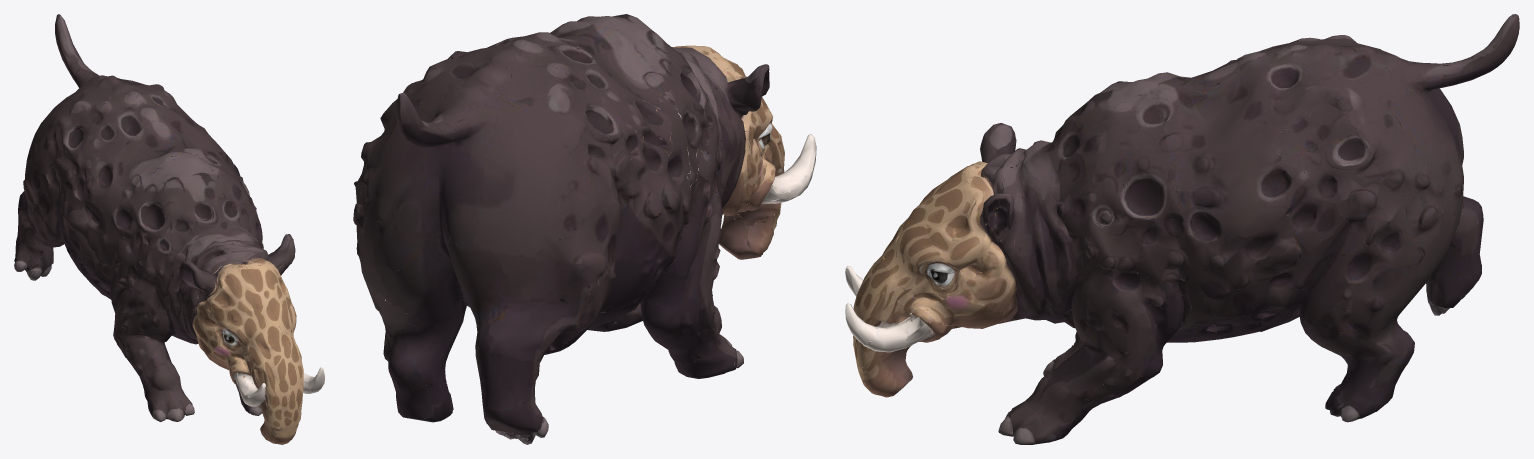
3 views of the same model, side by side, from view 1: azimuth 30°, elevation 25°; view 2: azimuth 150°, elevation 25°; view 3: azimuth 270°, elevation 25° (orthographic). The views are drawn at different scales.
Visible parts, largest first — view 1: Mesh_0; view 2: Mesh_0; view 3: Mesh_0.
Part boxes in pixels (<box>): Mesh_0: <box>14,14,324,444</box>; Mesh_0: <box>353,14,816,444</box>; Mesh_0: <box>845,14,1519,444</box>.
Bounding box in the file's own units: 0.7601 × 1.23 × 1.9.
1 material, 1 textured.
